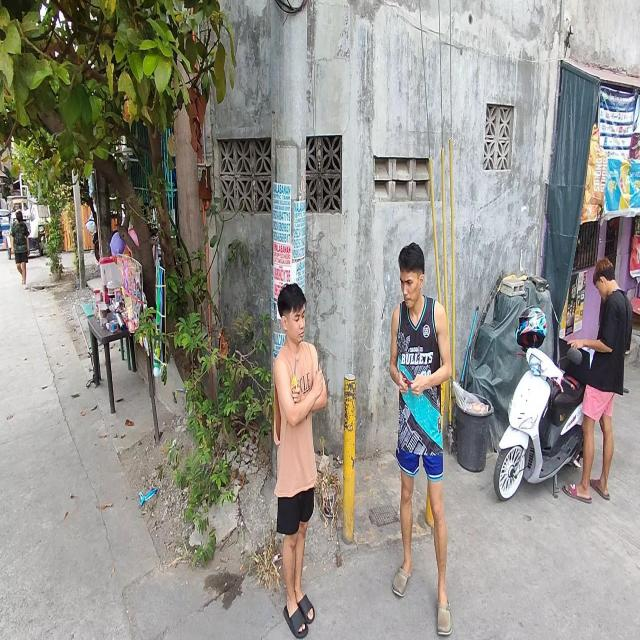scissor: (290, 357, 298, 391), (400, 371, 412, 388)
